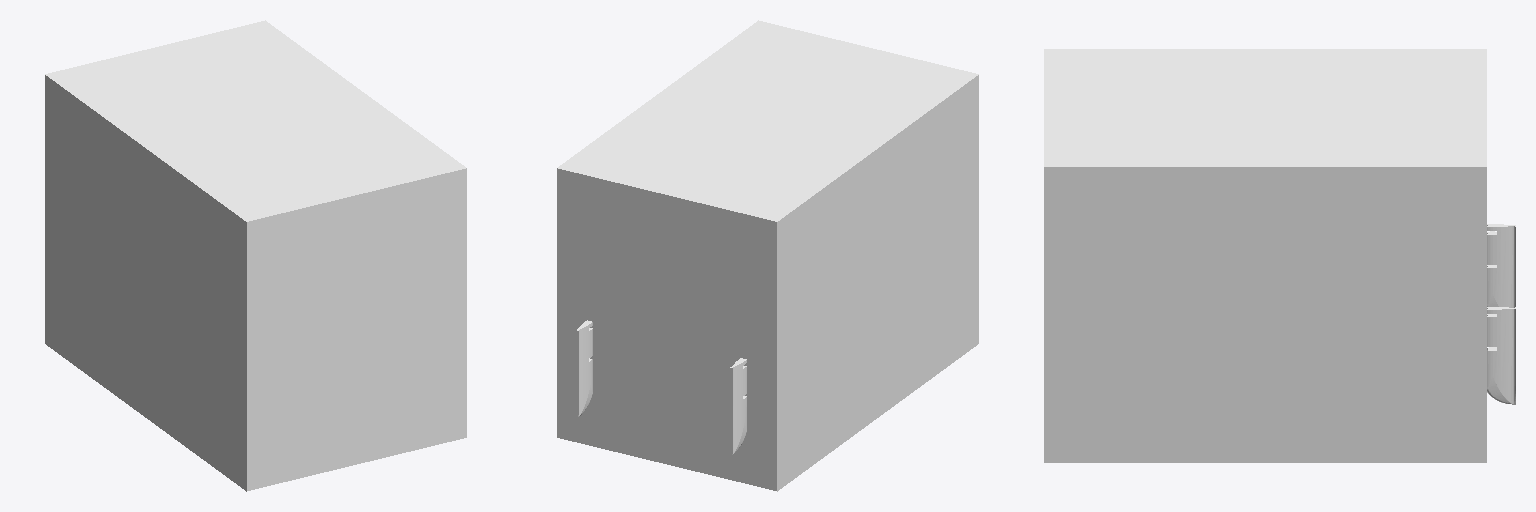
URDF robot description (LE1000-URDF-T4):
<?xml version="1.0" encoding="utf-8"?>
<!-- This URDF was automatically created by SolidWorks to URDF Exporter! Originally created by Stephen Brawner (brawner@gmail.com) 
     Commit Version: 1.6.0-4-g7f85cfe  Build Version: 1.6.7995.38578
     For more information, please see http://wiki.ros.org/sw_urdf_exporter -->
<robot
  name="LE1000-URDF-T4">
  <link
    name="base_link">
    <inertial>
      <origin
        xyz="0.0020604 0.014038 0.04597"
        rpy="0 0 0" />
      <mass
        value="15.687" />
      <inertia
        ixx="0.472"
        ixy="-5.4685E-05"
        ixz="-2.1797E-05"
        iyy="0.39383"
        iyz="0.018476"
        izz="0.7806" />
    </inertial>
    <visual>
      <origin
        xyz="0 0 0"
        rpy="0 0 0" />
      <geometry>
        <box
          size="0.60 0.95 0.70" />
      </geometry>
      <material
        name="">
        <color
          rgba="1 1 1 1" />
      </material>
    </visual>
    <collision>
      <origin
        xyz="0 0 0"
        rpy="0 0 0" />
      <geometry>
        <box
          size="0.60 0.95 0.70" />
      </geometry>
    </collision>
  </link>
  <link
    name="Joint1">
    <inertial>
      <origin
        xyz="0.024664 -0.068179 6.8383E-08"
        rpy="0 0 0" />
      <mass
        value="0.16562" />
      <inertia
        ixx="0.00061806"
        ixy="6.8728E-06"
        ixz="2.0765E-09"
        iyy="5.1737E-05"
        iyz="2.5949E-09"
        izz="0.0006647" />
    </inertial>
    <visual>
      <origin
        xyz="0 0 0"
        rpy="0 0 0" />
      <geometry>
        <mesh
          filename="package://LE1000-URDF-T4/meshes/Joint1.STL" />
      </geometry>
      <material
        name="">
        <color
          rgba="1 1 1 1" />
      </material>
    </visual>
    <collision>
      <origin
        xyz="0 0 0"
        rpy="0 0 0" />
      <geometry>
        <mesh
          filename="package://LE1000-URDF-T4/meshes/Joint1.STL" />
      </geometry>
    </collision>
  </link>
  <joint
    name="J1"
    type="revolute">
    <origin
      xyz="0.20955 0.47374 -0.06586"
      rpy="1.5708 0 1.5708" />
    <parent
      link="base_link" />
    <child
      link="Joint1" />
    <axis
      xyz="0 -1 0" />
    <limit
      lower="0"
      upper="0"
      effort="0"
      velocity="0" />
  </joint>
  <link
    name="Joint2">
    <inertial>
      <origin
        xyz="0.024664 -0.068179 6.8394E-08"
        rpy="0 0 0" />
      <mass
        value="0.16562" />
      <inertia
        ixx="0.00061806"
        ixy="6.8728E-06"
        ixz="2.0764E-09"
        iyy="5.1737E-05"
        iyz="2.5951E-09"
        izz="0.0006647" />
    </inertial>
    <visual>
      <origin
        xyz="0 0 0"
        rpy="0 0 0" />
      <geometry>
        <mesh
          filename="package://LE1000-URDF-T4/meshes/Joint2.STL" />
      </geometry>
      <material
        name="">
        <color
          rgba="1 1 1 1" />
      </material>
    </visual>
    <collision>
      <origin
        xyz="0 0 0"
        rpy="0 0 0" />
      <geometry>
        <mesh
          filename="package://LE1000-URDF-T4/meshes/Joint2.STL" />
      </geometry>
    </collision>
  </link>
  <joint
    name="J2"
    type="revolute">
    <origin
      xyz="-0.20955 0.47374 -0.06586"
      rpy="1.5708 0 1.5708" />
    <parent
      link="base_link" />
    <child
      link="Joint2" />
    <axis
      xyz="0 -1 0" />
    <limit
      lower="0"
      upper="0"
      effort="0"
      velocity="0" />
  </joint>
</robot>

--- Render facts (derived) ---
Views: 3 orthographic renders of the robot side by side, from view 1: azimuth 30°, elevation 25°; view 2: azimuth 150°, elevation 25°; view 3: azimuth 270°, elevation 25°.
Model LE1000-URDF-T4 with 3 links and 2 joints (2 revolute), rooted at base_link, posed all joints at 0.
Visible links, largest first — view 1: base_link; view 2: base_link, Joint2, Joint1; view 3: base_link, Joint1, Joint2.
Boxes of the visible links, left/top/right/bottom form: base_link: left=45, top=20, right=466, bottom=491; base_link: left=557, top=20, right=978, bottom=491; Joint2: left=729, top=358, right=746, bottom=455; Joint1: left=575, top=320, right=592, bottom=417; base_link: left=1044, top=49, right=1486, bottom=462; Joint1: left=1487, top=307, right=1515, bottom=404; Joint2: left=1487, top=224, right=1515, bottom=307.
Bounding box of the posed robot: 0.6 × 1.01 × 0.7 m (x, y, z).
Meshes: 2 distinct files referenced, 2 mesh visuals loaded (2 binary STL).
